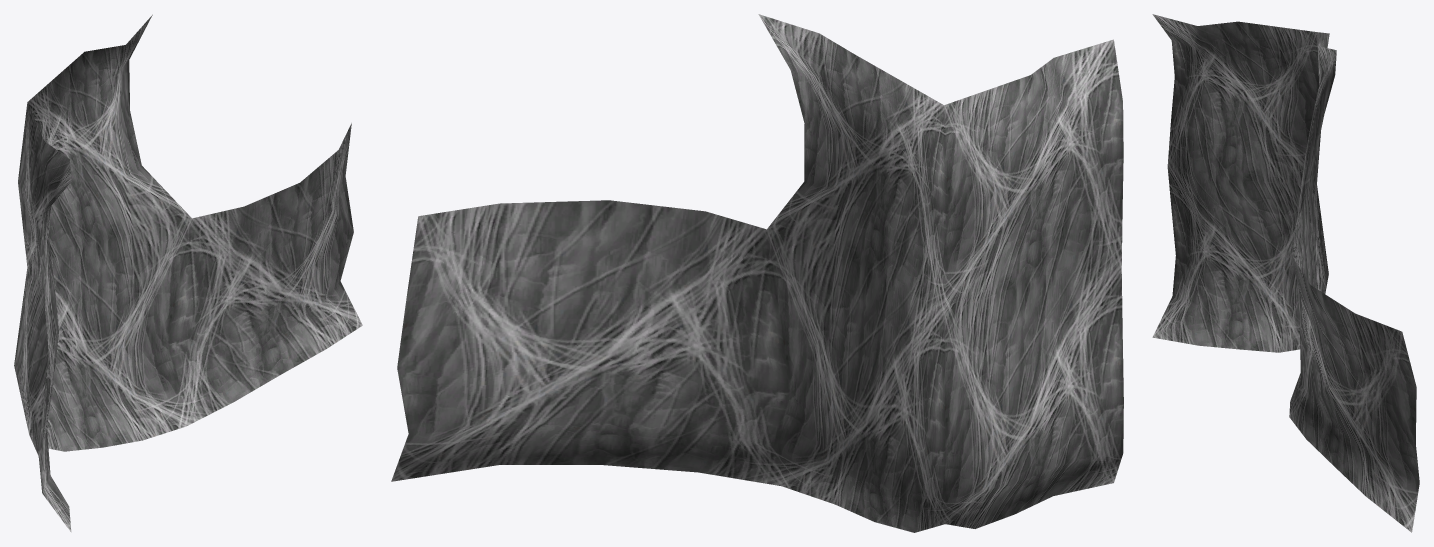
File: SWORDLIGHT20_PS-AREA01_36.fbx
3 renders of one model, left to right at view 1: azimuth 30°, elevation 25°; view 2: azimuth 150°, elevation 25°; view 3: azimuth 270°, elevation 25°, orthographic. The views are drawn at different scales.
Parts seen in each view (by area): view 1: SWORDLIGHT20_PS-AREA01_36; view 2: SWORDLIGHT20_PS-AREA01_36; view 3: SWORDLIGHT20_PS-AREA01_36.
Boxes of the visible parts, <box> form: SWORDLIGHT20_PS-AREA01_36: <box>14,14,362,532</box>; SWORDLIGHT20_PS-AREA01_36: <box>391,14,1123,532</box>; SWORDLIGHT20_PS-AREA01_36: <box>1152,14,1419,532</box>.
Size of the model in its own units: 113152 by 96030 by 62899.
Materials: 1 (1 with a texture image).
